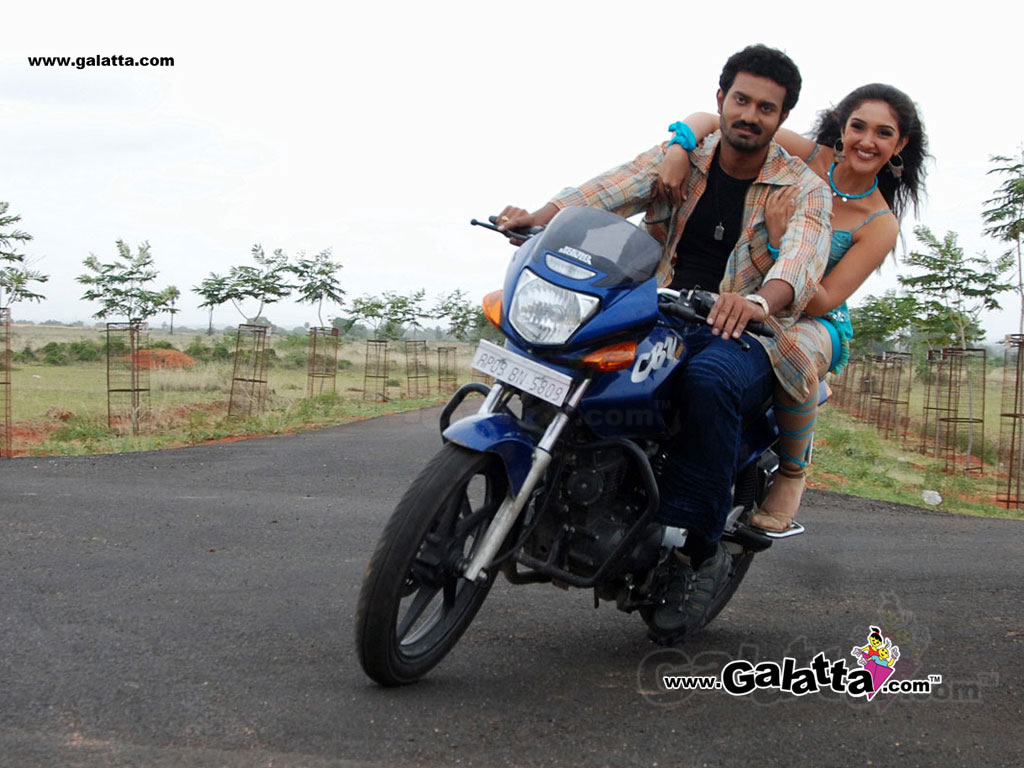motor: (352, 205, 856, 673)
no helmet: (718, 39, 794, 147), (835, 77, 912, 173)
number: (468, 338, 568, 408)
